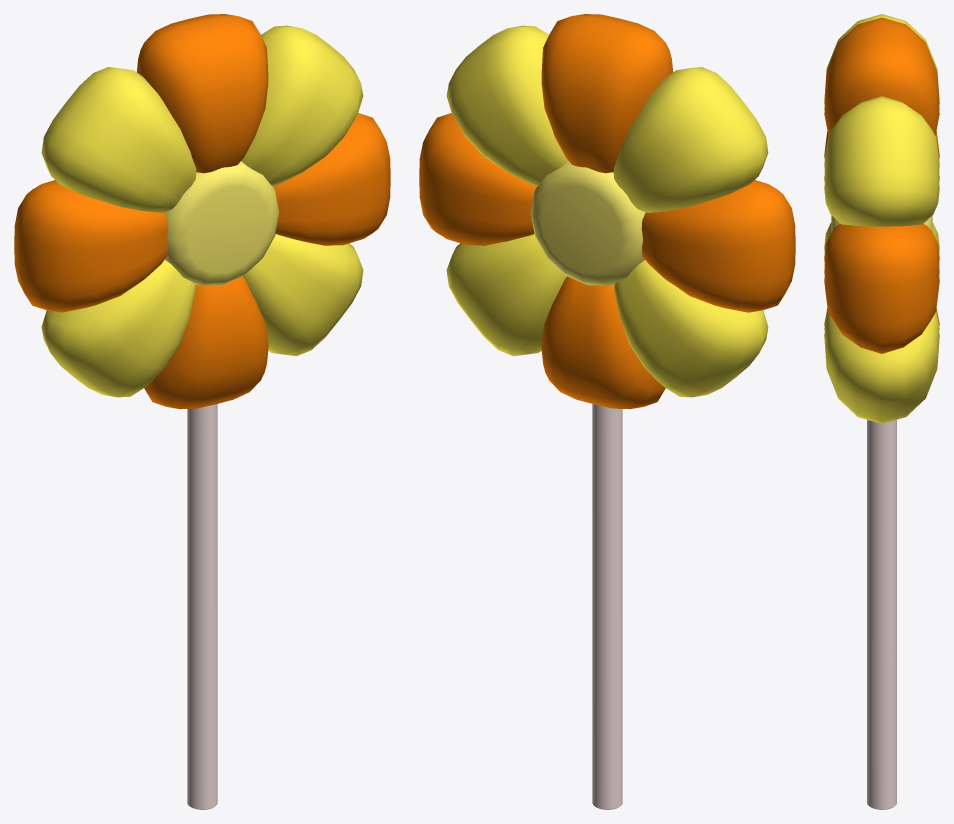
Rendered from Store_8_Candy_5.glb.
3 views of the same model, side by side, from view 1: azimuth 30°, elevation 25°; view 2: azimuth 150°, elevation 25°; view 3: azimuth 270°, elevation 25° (orthographic).
Parts seen in each view (by area): view 1: Store_8_Candy_5; view 2: Store_8_Candy_5; view 3: Store_8_Candy_5.
Boxes of the visible parts, bbox=[...] form: Store_8_Candy_5: bbox=[14, 14, 390, 809]; Store_8_Candy_5: bbox=[419, 14, 795, 809]; Store_8_Candy_5: bbox=[824, 14, 939, 809].
Bounding box in the file's own units: 0.8907 × 1.83 × 0.2476.
1 material, 1 textured.
